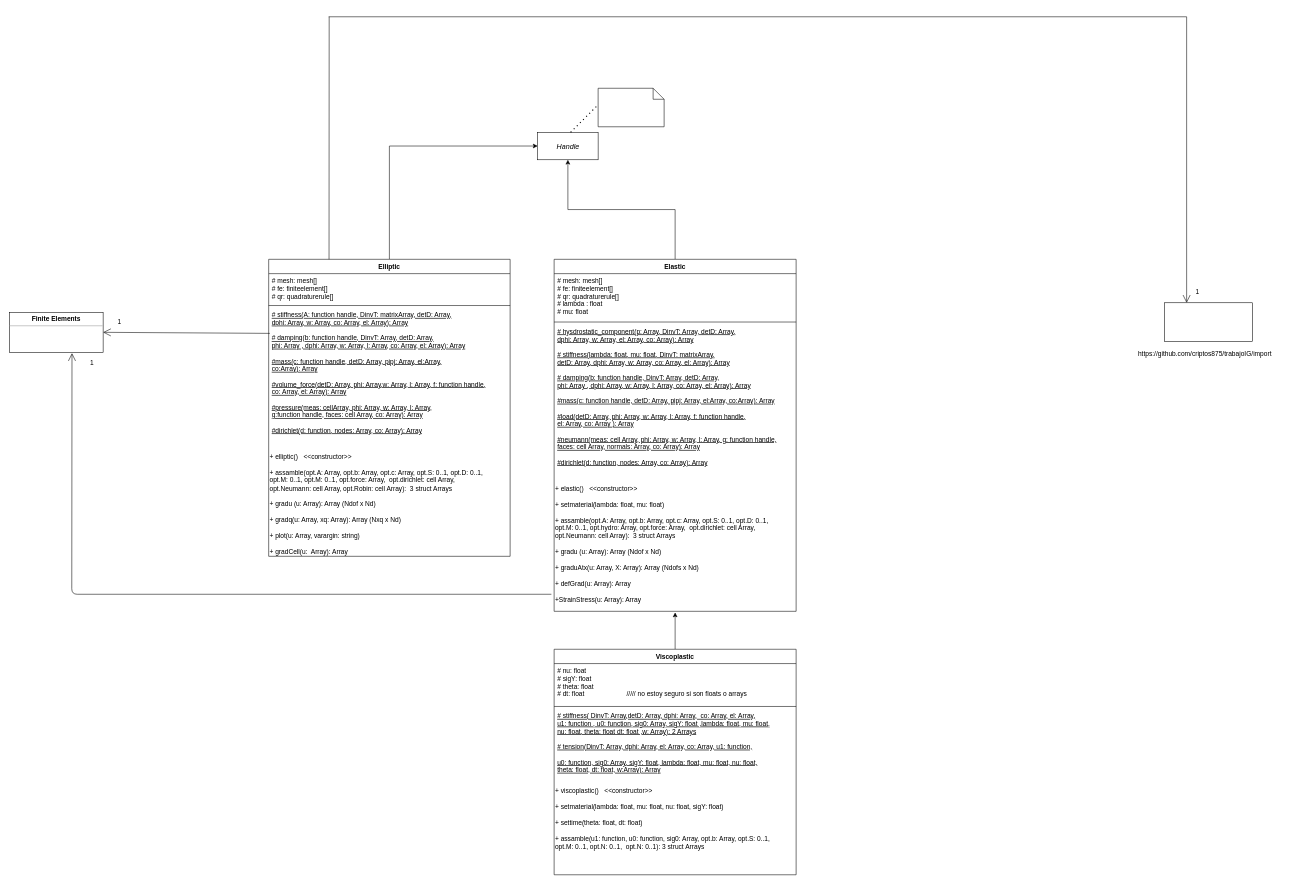
Image size: 1295x884. Some labels were removed from this diagram. The centre of each missing label's shape, as x and y in pixels:
"Mesh" goes at point (1208, 321).
"Permite implementar subclases con comportamiento handle." goes at point (631, 107).
